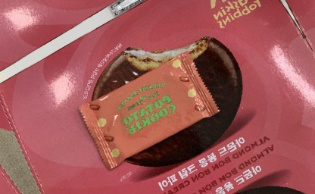pota: (69, 42, 227, 179)
